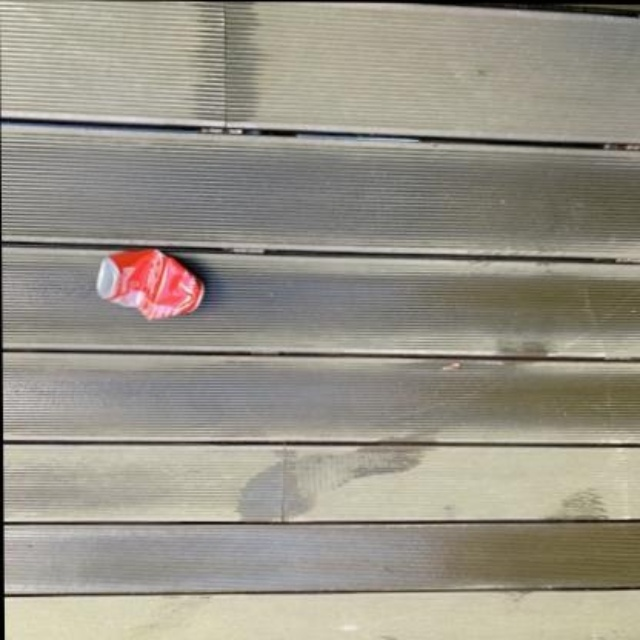trash: (97, 249, 203, 318)
